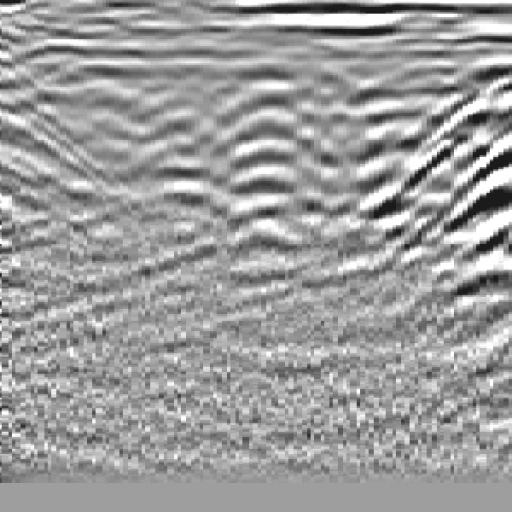metalic: (125, 42, 309, 280)
nonmetalic: (380, 35, 512, 286)
